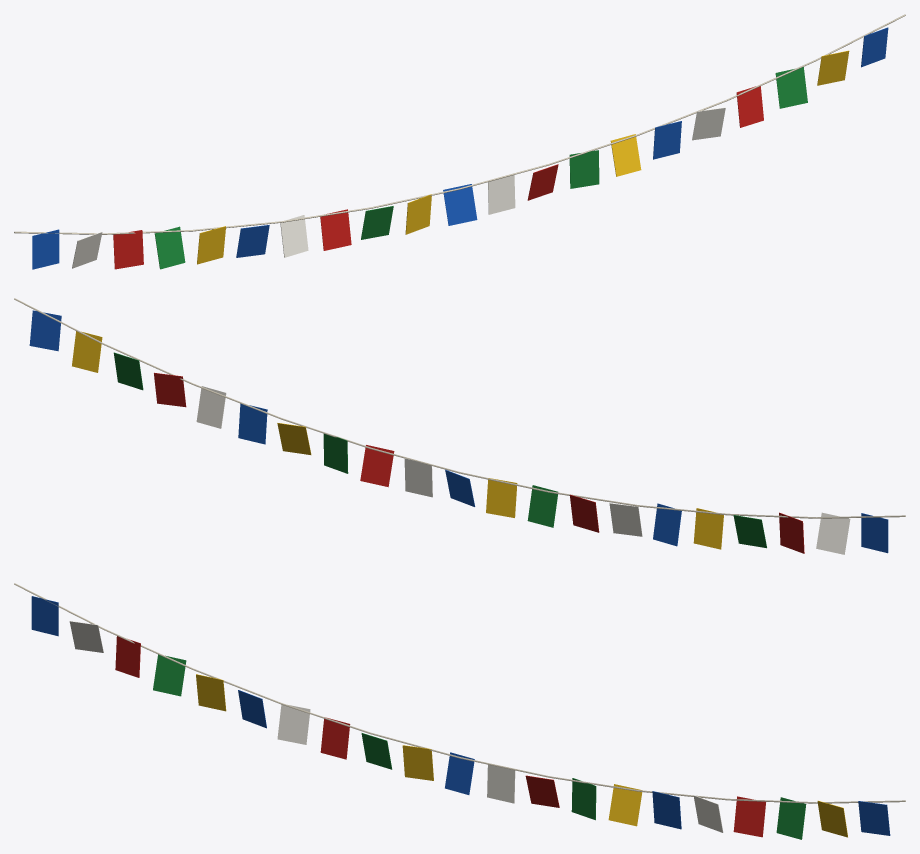
Rendered from flags.glb.
3 views of the same model, one above another, from view 1: azimuth 30°, elevation 25°; view 2: azimuth 150°, elevation 25°; view 3: azimuth 330°, elevation 25° (orthographic).
Visible parts, largest first — view 1: flag020, flag328, flag212, flag217, flag323, flag313, flag010, flag424, flag121, flag116, flag227, flag025 (+9 smaller); view 2: flag111, flag222, flag030, flag419, flag414, flag429, flag318, flag025, flag010, flag126, flag015, flag121 (+9 smaller); view 3: flag424, flag227, flag116, flag313, flag010, flag328, flag217, flag419, flag121, flag020, flag030, flag025 (+9 smaller).
Part boxes in pixels (bbox=[...]): flag020: bbox=[443, 184, 477, 225]; flag328: bbox=[775, 67, 807, 108]; flag212: bbox=[113, 230, 143, 269]; flag217: bbox=[320, 209, 351, 250]; flag323: bbox=[569, 150, 599, 188]; flag313: bbox=[154, 226, 185, 269]; flag010: bbox=[32, 229, 59, 269]; flag424: bbox=[610, 134, 641, 176]; flag121: bbox=[488, 175, 515, 214]; flag116: bbox=[280, 215, 308, 257]; flag227: bbox=[736, 86, 763, 127]; flag025: bbox=[653, 121, 681, 159]; flag111: bbox=[816, 512, 850, 554]; flag222: bbox=[360, 445, 394, 487]; flag030: bbox=[29, 310, 61, 351]; flag419: bbox=[486, 478, 517, 517]; flag414: bbox=[693, 508, 723, 549]; flag429: bbox=[72, 331, 102, 372]; flag318: bbox=[527, 485, 558, 527]; flag025: bbox=[238, 403, 267, 444]; flag010: bbox=[861, 513, 888, 553]; flag126: bbox=[196, 386, 226, 428]; flag015: bbox=[653, 503, 681, 546]; flag121: bbox=[404, 458, 432, 497]; flag424: bbox=[608, 784, 642, 826]; flag227: bbox=[733, 796, 765, 837]; flag116: bbox=[277, 704, 310, 744]; flag313: bbox=[153, 654, 186, 696]; flag010: bbox=[31, 596, 58, 636]; flag328: bbox=[776, 797, 806, 839]; flag217: bbox=[320, 717, 350, 759]; flag419: bbox=[402, 745, 433, 780]; flag121: bbox=[487, 763, 515, 803]; flag020: bbox=[445, 752, 474, 794]; flag030: bbox=[858, 801, 890, 835]; flag025: bbox=[652, 791, 681, 829].
Bounding box in the file's own units: 10 × 1.06 × 0.1549.
